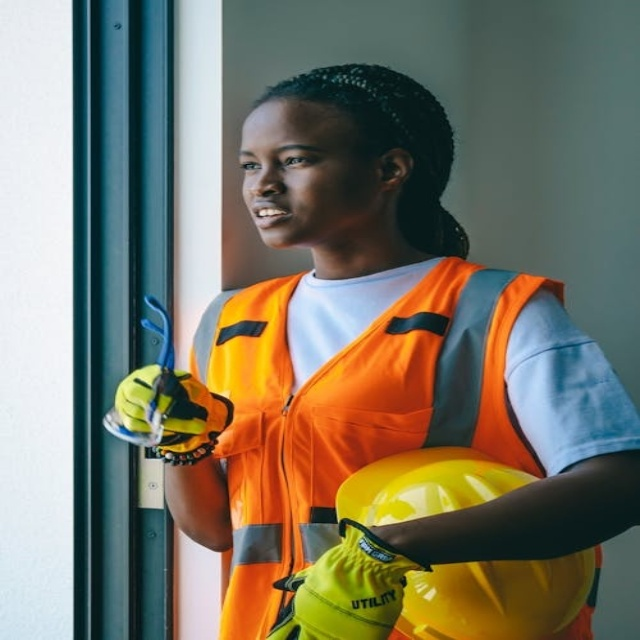Guantes: (257, 518, 430, 638), (112, 362, 234, 462)
Sin_gafas: (234, 140, 352, 179)
Sin_mascara: (246, 199, 310, 241)
